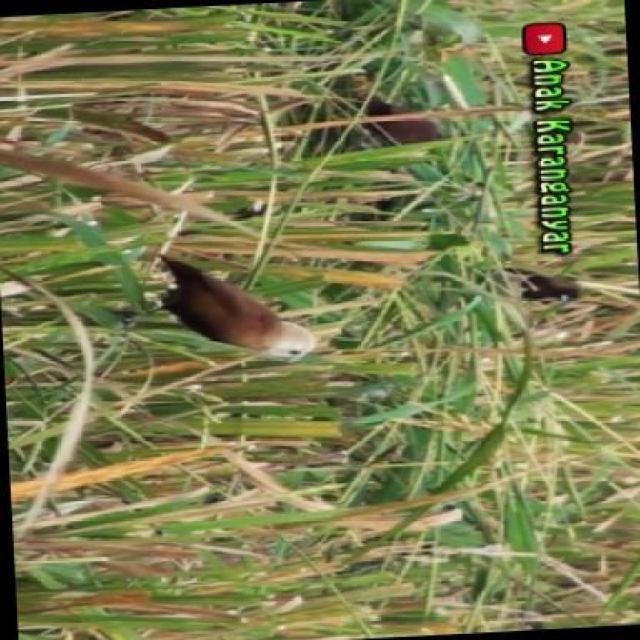Bird: (148, 243, 340, 385)
